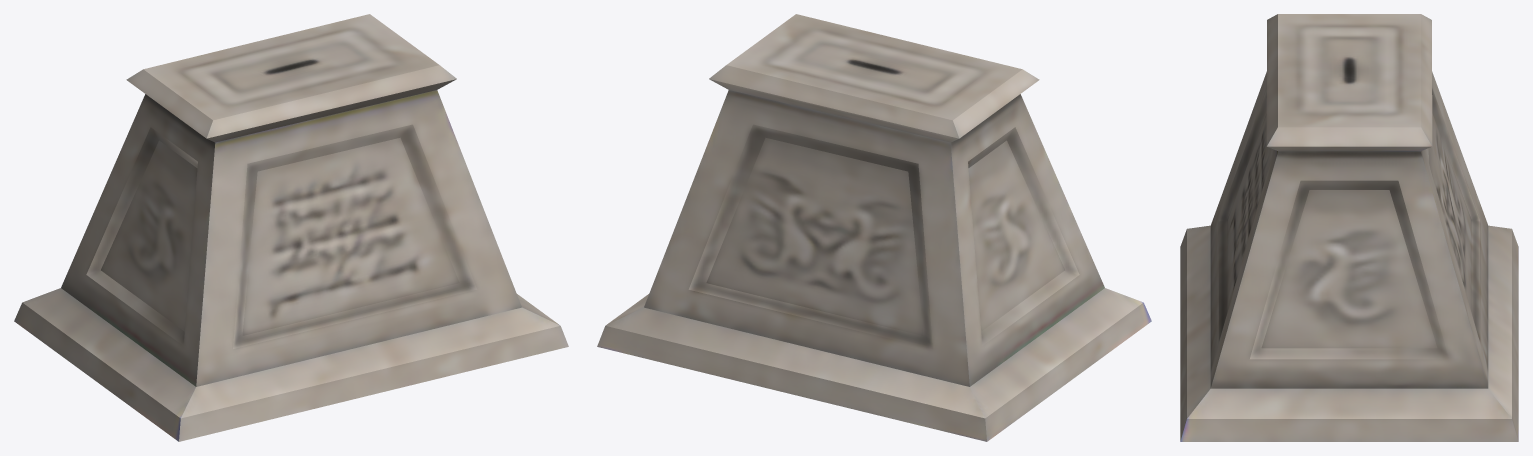
Rendered from PedestalnoSword_HD.fbx.
3 views of the same model, side by side, from view 1: azimuth 30°, elevation 25°; view 2: azimuth 150°, elevation 25°; view 3: azimuth 270°, elevation 25° (orthographic). The views are drawn at different scales.
Parts seen in each view (by area): view 1: PedestalnoSword; view 2: PedestalnoSword; view 3: PedestalnoSword.
Boxes of the visible parts, <box> form: PedestalnoSword: <box>14,14,568,441</box>; PedestalnoSword: <box>597,14,1151,441</box>; PedestalnoSword: <box>1180,14,1518,441</box>.
Bounding box in the file's own units: 0.788 × 0.5152 × 0.577.
